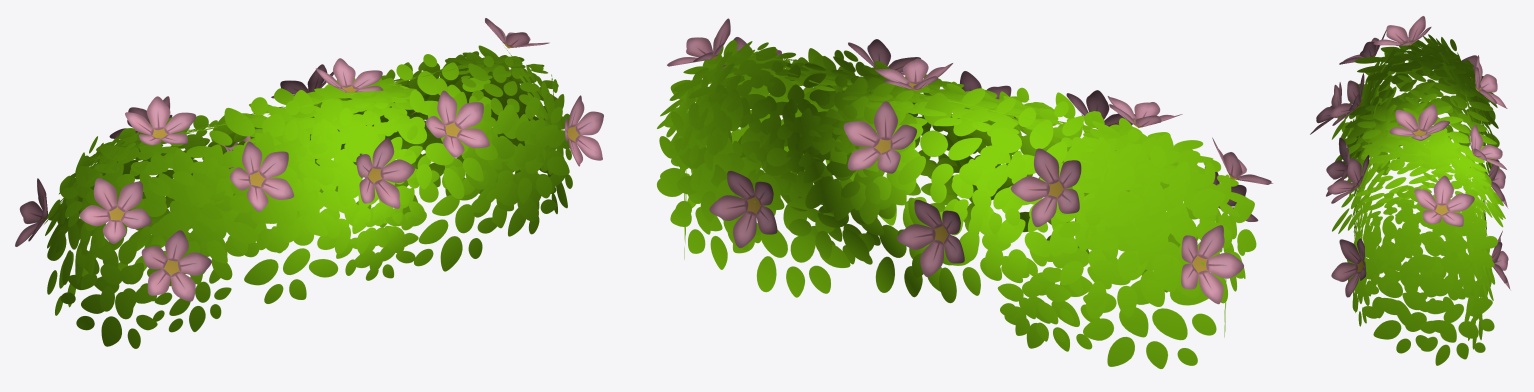
File: Bush_Small_Flowers.glb
3 renders of one model, left to right at view 1: azimuth 30°, elevation 25°; view 2: azimuth 150°, elevation 25°; view 3: azimuth 270°, elevation 25°, orthographic. The views are drawn at different scales.
Visible parts, largest first — view 1: Bush_Small_Flowers; view 2: Bush_Small_Flowers; view 3: Bush_Small_Flowers.
Boxes of the visible parts, bbox=[...] form: Bush_Small_Flowers: bbox=[15, 18, 603, 348]; Bush_Small_Flowers: bbox=[657, 18, 1272, 368]; Bush_Small_Flowers: bbox=[1310, 16, 1510, 365].
Size of the model in its own units: 1.93 by 0.8168 by 0.7618.
2 materials, 2 textured.
